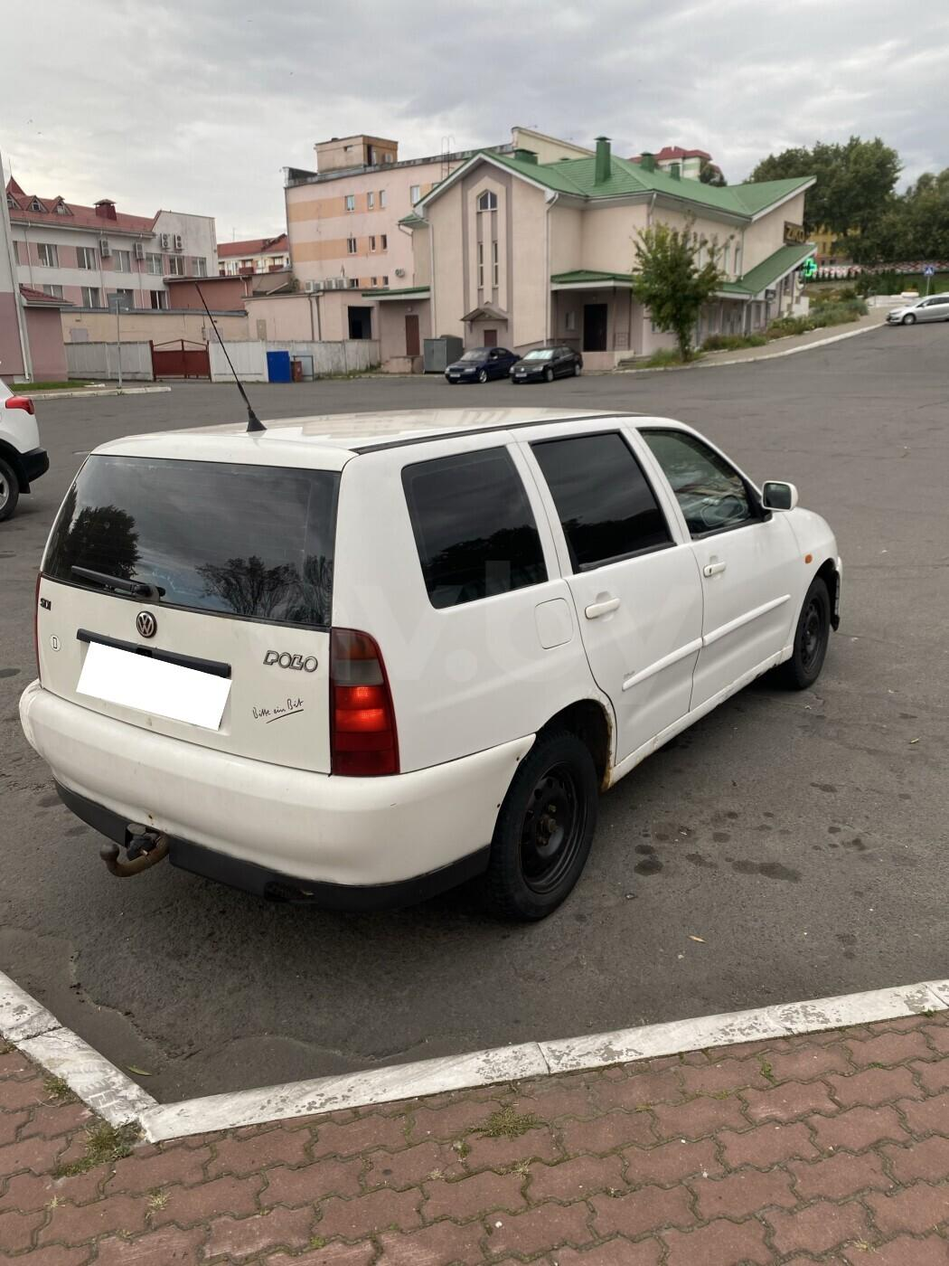Polo_1994-2002: (11, 377, 841, 957)
